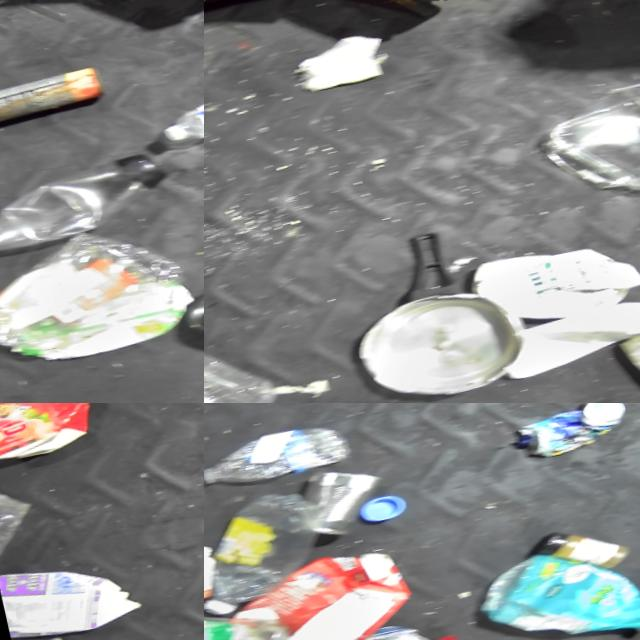can: (288, 456, 395, 543), (503, 403, 635, 464)
milk_jug: (465, 228, 640, 330), (492, 286, 640, 382), (610, 295, 640, 403)
non_white_jug: (465, 527, 640, 640)
plastic_bottle: (0, 145, 172, 264), (204, 483, 338, 620), (204, 414, 354, 494), (148, 72, 204, 149)
